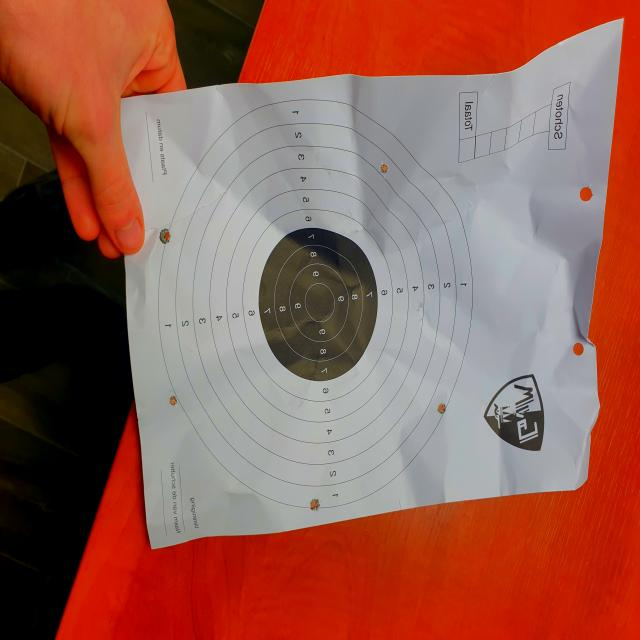1: (158, 228, 172, 245), (308, 498, 321, 512), (169, 394, 179, 407), (437, 402, 447, 415)
2: (379, 160, 390, 179)
Target: (157, 96, 474, 508)
black_contour: (258, 228, 378, 381)
